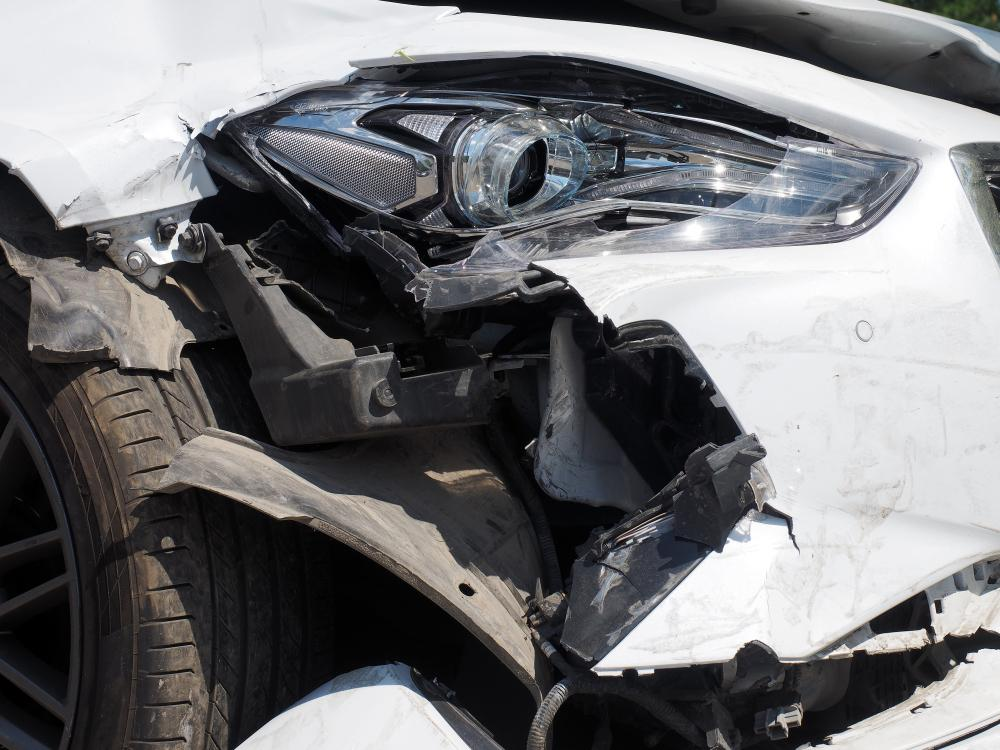crack: (747, 500, 806, 559)
dent: (0, 0, 404, 223)
lamp broken: (202, 57, 920, 304)
